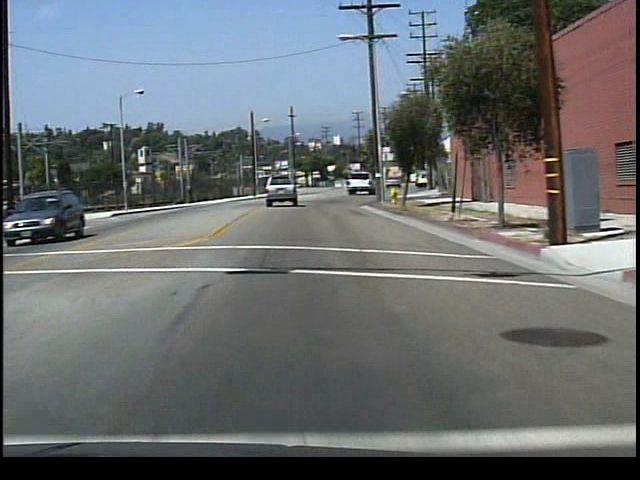person: (184, 181, 200, 206)
